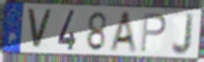4: (56, 8, 78, 52)
8: (86, 11, 108, 52)
A: (107, 10, 140, 55)
J: (170, 12, 196, 58)
P: (139, 12, 168, 54)
V: (25, 8, 54, 52)
